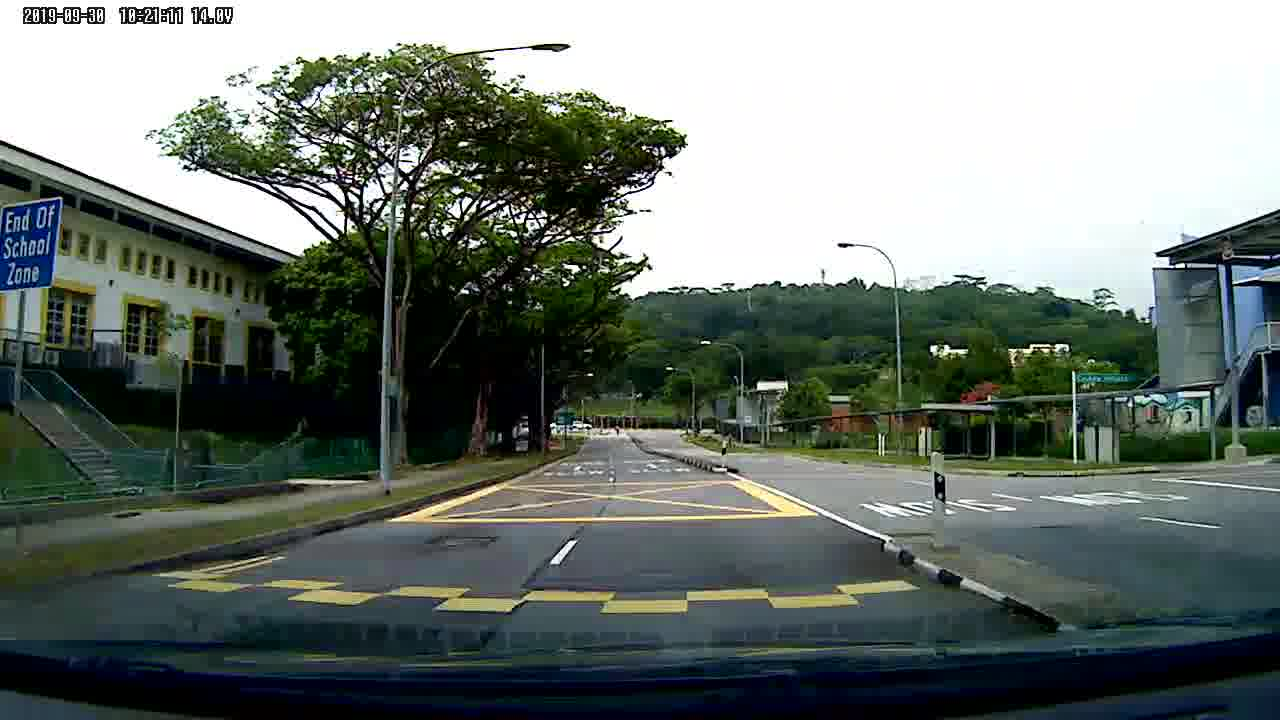car: (573, 420, 594, 431)
